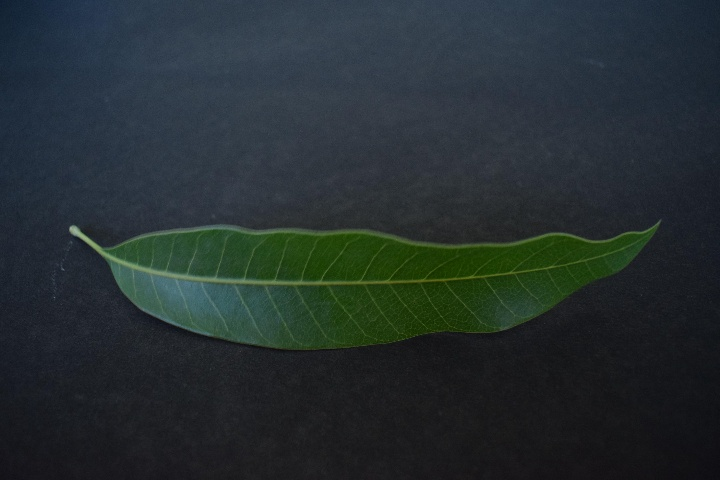healthy: (108, 217, 679, 347)
